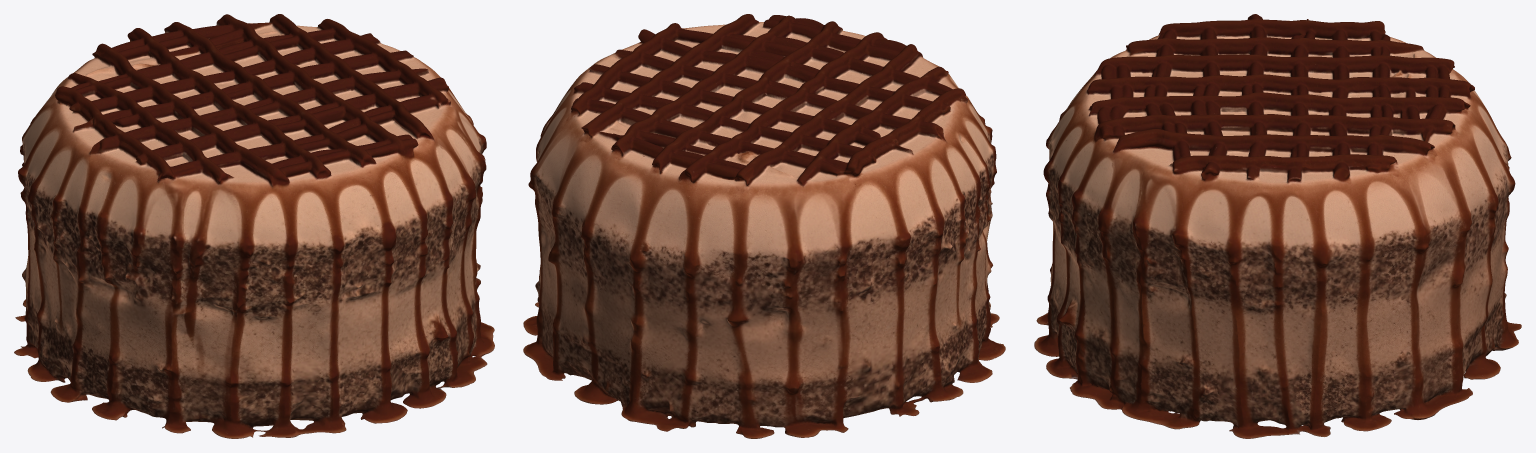
The model's file is cakee1.glb.
The picture shows the model from 3 angles, left to right: view 1: azimuth 30°, elevation 25°; view 2: azimuth 150°, elevation 25°; view 3: azimuth 270°, elevation 25°; orthographic projection.
Size of the model in its own units: 1.89 by 1.11 by 1.9.
1 material, 1 textured.
